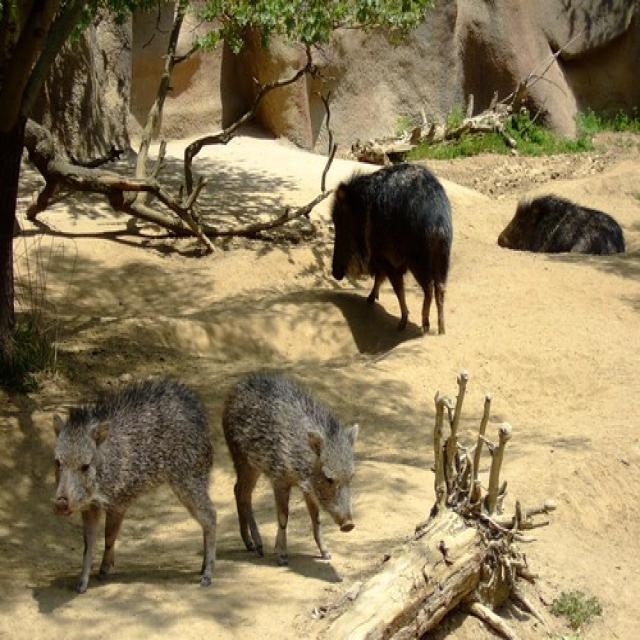boar: (32, 360, 230, 604), (217, 358, 374, 592), (304, 146, 473, 356), (491, 186, 629, 271)
